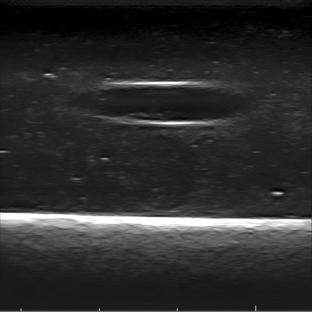vessel: (98, 81, 247, 126)
